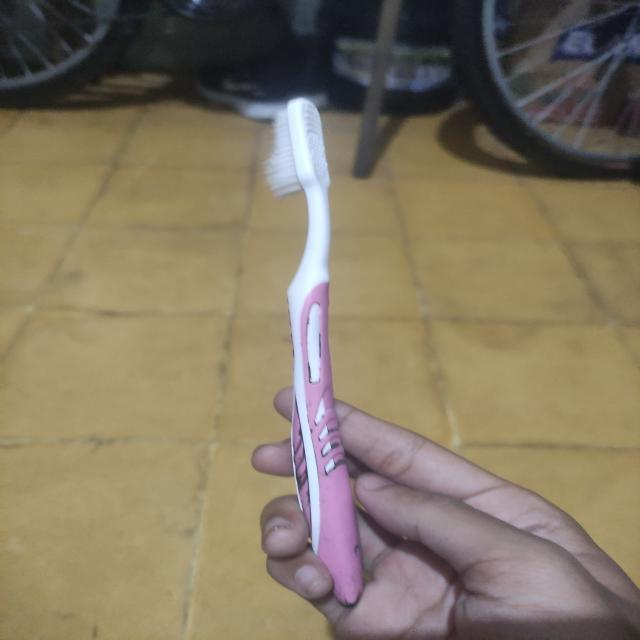toothbrush: (238, 84, 402, 608)
